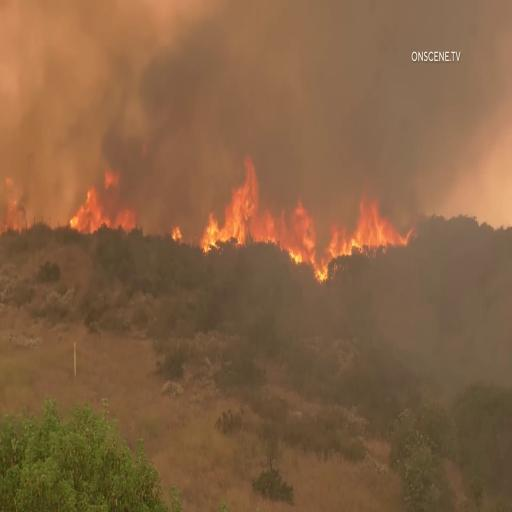fire: (326, 196, 415, 268), (193, 162, 242, 252), (240, 151, 283, 244), (78, 151, 119, 236), (280, 191, 326, 265)
